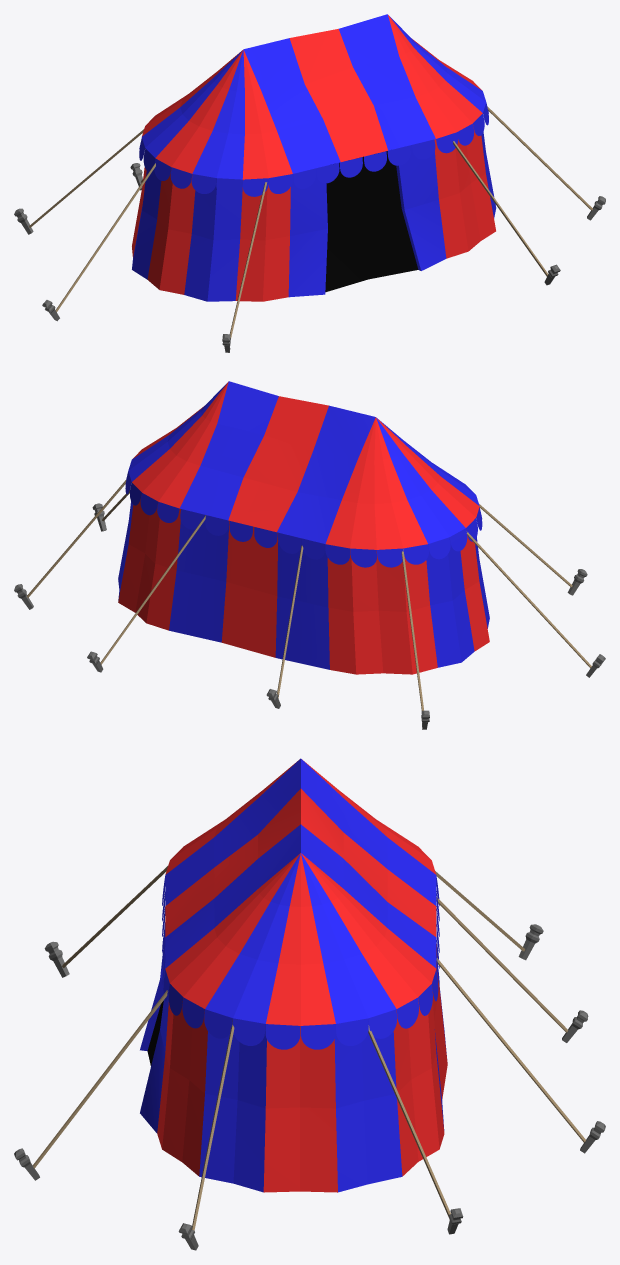
File: tent_d_01.FBX
3 views of the same model, one above another, from view 1: azimuth 30°, elevation 25°; view 2: azimuth 150°, elevation 25°; view 3: azimuth 270°, elevation 25° (orthographic). The views are drawn at different scales.
Visible parts, largest first — view 1: tent_d_01; view 2: tent_d_01; view 3: tent_d_01.
Boxes of the visible parts, x1,y1,x2,y2 form: tent_d_01: (14,14,605,352); tent_d_01: (14,381,605,729); tent_d_01: (14,758,605,1250).
Bounding box in the file's own units: 11.01 × 4.27 × 7.9.
